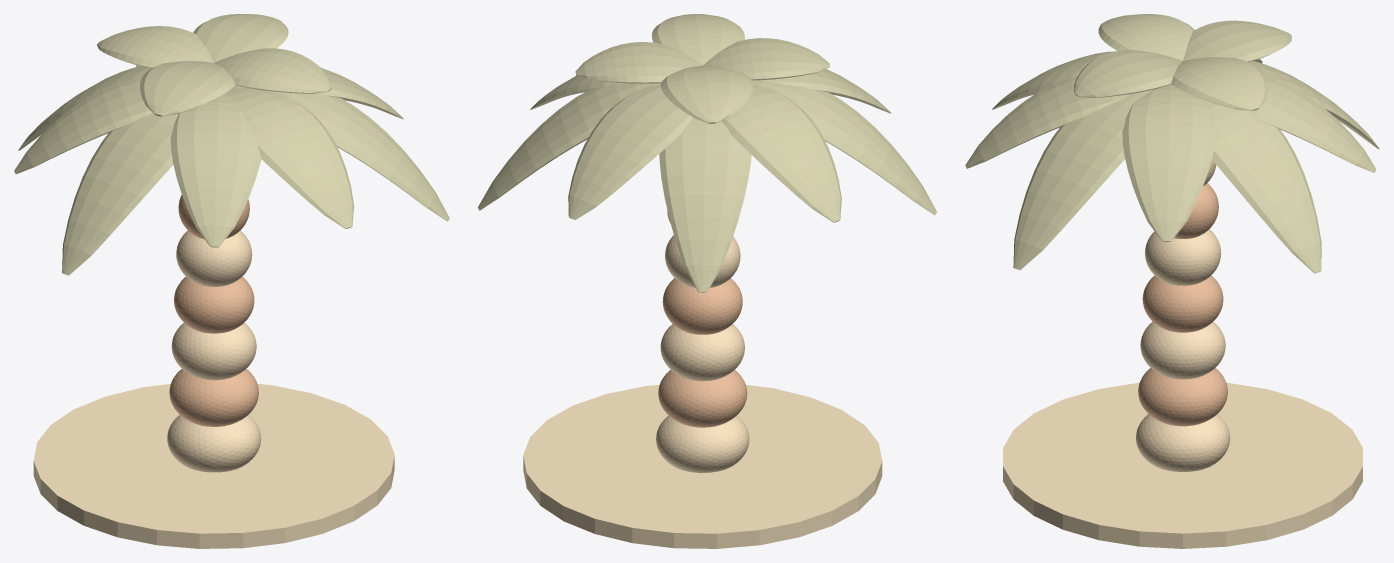
File: date_palm_bare.glb
3 views of the same model, side by side, from view 1: azimuth 30°, elevation 25°; view 2: azimuth 150°, elevation 25°; view 3: azimuth 270°, elevation 25° (orthographic).
Visible parts, largest first — view 1: Base, Leaf_8, Leaf_7, Leaf_0, Leaf_1, Leaf_6, Trunk_0, Trunk_1, LeafTop_3, LeafTop_0, Trunk_2, Trunk_3 (+6 smaller); view 2: Base, Leaf_5, Leaf_6, Leaf_4, Leaf_7, Leaf_3, Trunk_0, LeafTop_2, Trunk_1, Trunk_2, LeafTop_1, LeafTop_3 (+5 smaller); view 3: Base, Leaf_2, Leaf_3, Leaf_1, Leaf_0, Leaf_4, Trunk_0, Trunk_1, LeafTop_1, LeafTop_0, Trunk_2, Trunk_3 (+6 smaller).
Part boxes in pixels (x1,y1,x2,y2): Base: (33, 384, 394, 548); Leaf_8: (170, 92, 261, 247); Leaf_7: (62, 113, 178, 275); Leaf_0: (226, 87, 353, 228); Leaf_1: (233, 85, 449, 221); Leaf_6: (14, 76, 152, 174); Trunk_0: (167, 415, 261, 472); Trunk_1: (169, 368, 258, 426); LeafTop_3: (140, 61, 235, 116); LeafTop_0: (214, 48, 331, 93); Trunk_2: (171, 322, 256, 380); Trunk_3: (174, 276, 254, 333); Base: (523, 385, 882, 548); Leaf_5: (659, 117, 751, 292); Leaf_6: (722, 85, 841, 222); Leaf_4: (568, 84, 692, 219); Leaf_7: (752, 80, 936, 215); Leaf_3: (478, 83, 660, 210); Trunk_0: (656, 415, 749, 472); LeafTop_2: (660, 65, 753, 123); Trunk_1: (658, 369, 747, 427); Trunk_2: (660, 324, 744, 381); LeafTop_1: (575, 42, 702, 83); LeafTop_3: (703, 38, 829, 80); Base: (1003, 382, 1362, 548); Leaf_2: (1122, 84, 1216, 241); Leaf_3: (1200, 98, 1321, 273); Leaf_1: (1013, 90, 1151, 270); Leaf_0: (965, 76, 1129, 168); Leaf_4: (1238, 75, 1376, 172); Trunk_0: (1136, 414, 1230, 471); Trunk_1: (1138, 368, 1227, 426); LeafTop_1: (1171, 57, 1267, 110); LeafTop_0: (1074, 49, 1182, 97); Trunk_2: (1140, 321, 1225, 379); Trunk_3: (1142, 275, 1223, 332).
Bounding box in the file's own units: 1.14 × 1.24 × 1.1.
